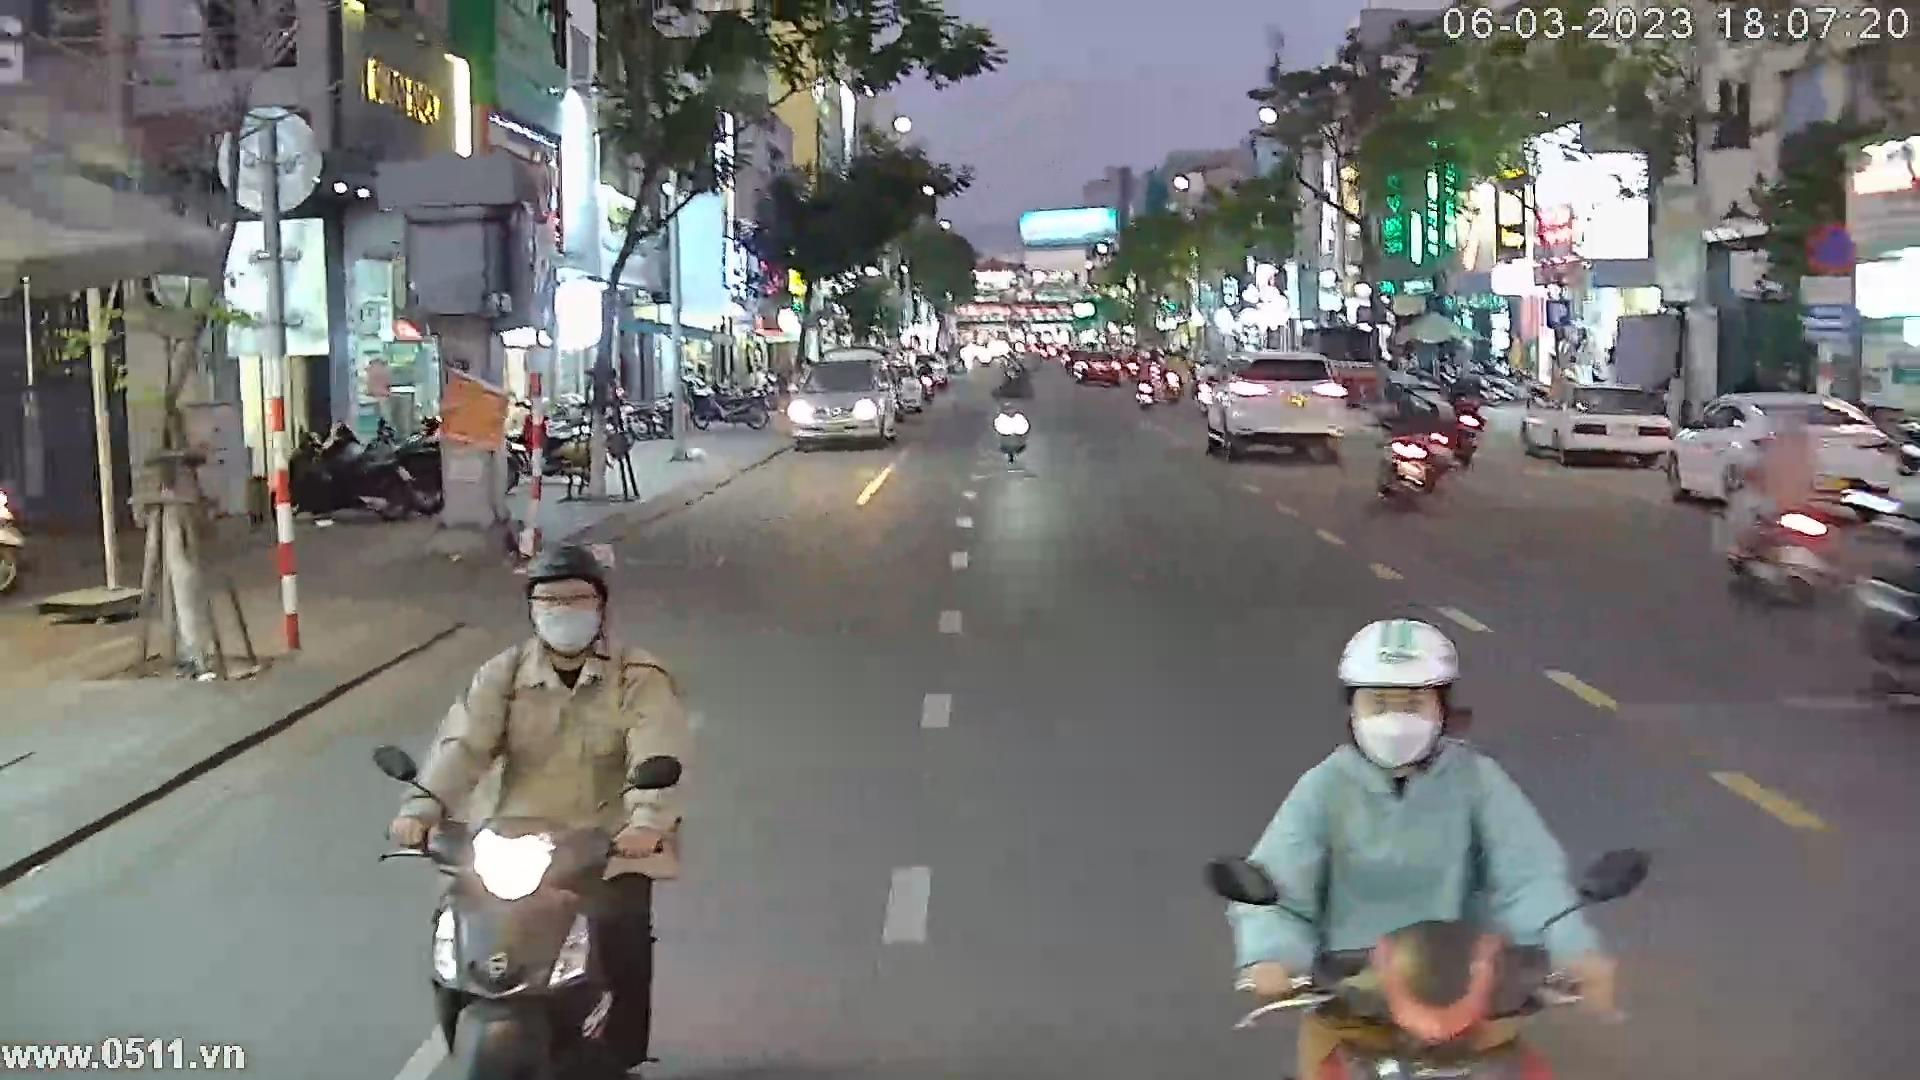car: (1668, 390, 1903, 525), (1205, 356, 1357, 465), (1518, 385, 1676, 472), (789, 352, 901, 451)
motorcycle: (1207, 616, 1654, 1080), (365, 537, 695, 1080), (1710, 402, 1838, 611), (1369, 378, 1440, 518), (1441, 367, 1493, 475), (985, 363, 1036, 468)
